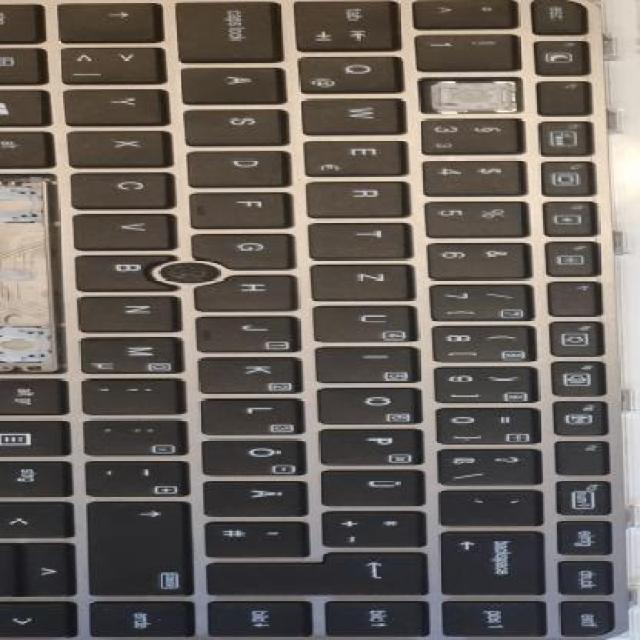Keyboard problems: (0, 177, 60, 372), (420, 78, 522, 112)
